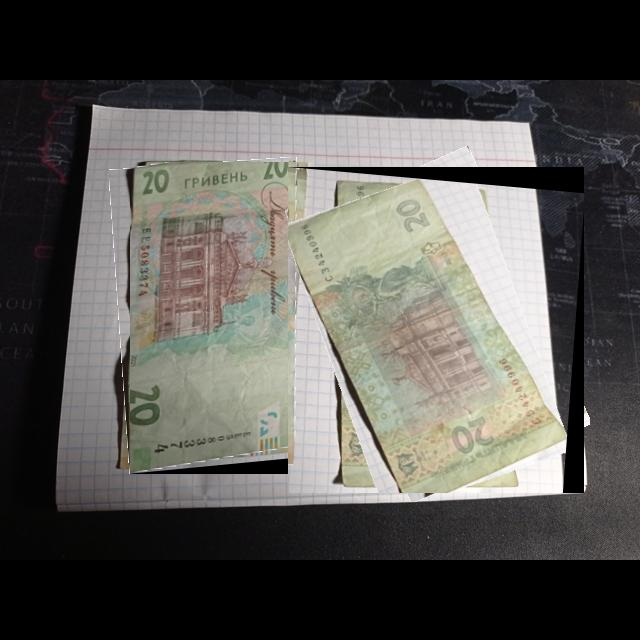20uah: (288, 176, 571, 494), (130, 162, 306, 474)
